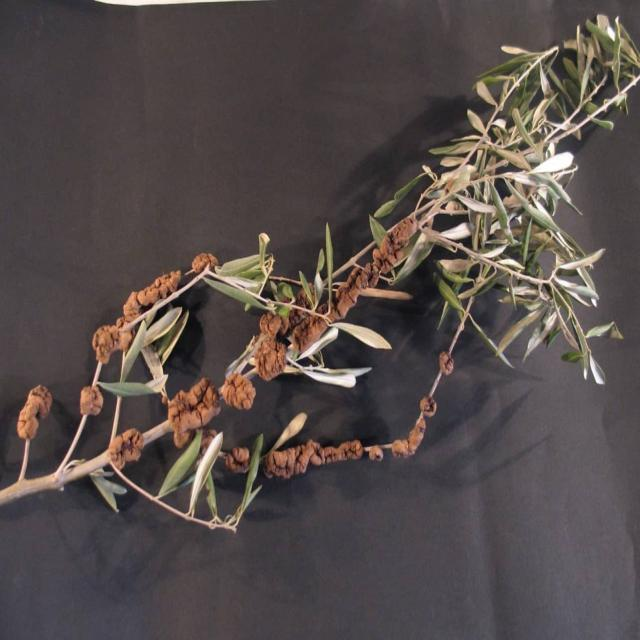Tuberculosis: (92, 270, 181, 364), (264, 439, 364, 478), (168, 378, 220, 448), (328, 262, 376, 322), (373, 216, 417, 273), (252, 312, 288, 380), (17, 385, 51, 454), (106, 428, 144, 474), (390, 416, 426, 458), (220, 373, 256, 410), (292, 316, 322, 354), (219, 446, 250, 476), (79, 386, 100, 418), (190, 252, 218, 274), (439, 351, 454, 376), (420, 394, 436, 417), (366, 444, 383, 460)
